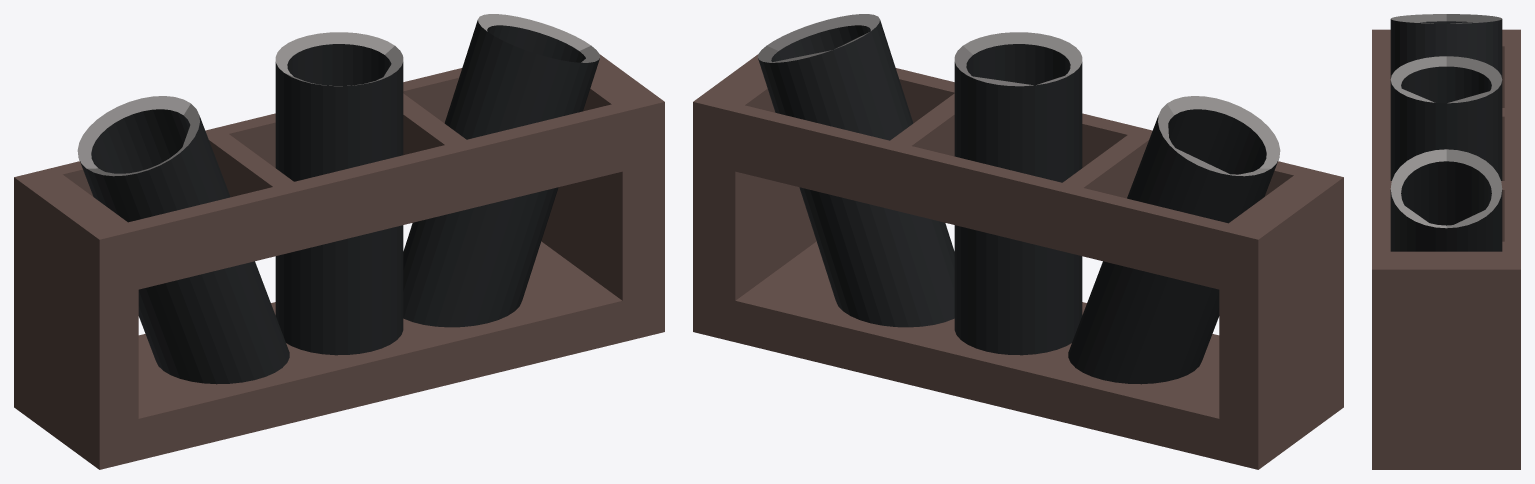
The model's file is 10inch_angled_Rack.fbx.
3 renders of one model, left to right at view 1: azimuth 30°, elevation 25°; view 2: azimuth 150°, elevation 25°; view 3: azimuth 270°, elevation 25°, orthographic. The views are drawn at different scales.
Parts seen in each view (by area): view 1: Cube, Cylinder, Cylinder.001, Cylinder.002; view 2: Cube, Cylinder, Cylinder.001, Cylinder.002; view 3: Cube, Cylinder, Cylinder.001, Cylinder.002.
Part boxes in pixels (left/top/right/bottom): Cube: left=14, top=54, right=664, bottom=469; Cylinder: left=275, top=32, right=403, bottom=355; Cylinder.001: left=403, top=14, right=600, bottom=327; Cylinder.002: left=77, top=96, right=289, bottom=384; Cube: left=693, top=54, right=1343, bottom=469; Cylinder: left=954, top=32, right=1082, bottom=355; Cylinder.001: left=757, top=14, right=954, bottom=327; Cylinder.002: left=1068, top=96, right=1280, bottom=384; Cube: left=1372, top=29, right=1520, bottom=469; Cylinder: left=1390, top=56, right=1502, bottom=180; Cylinder.001: left=1390, top=149, right=1502, bottom=251; Cylinder.002: left=1390, top=14, right=1502, bottom=78.
Size of the model in its own units: 191 by 100 by 50.12.
